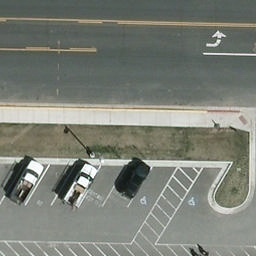car: (121, 161, 152, 201)
pickup: (7, 161, 45, 208), (61, 163, 97, 209)
